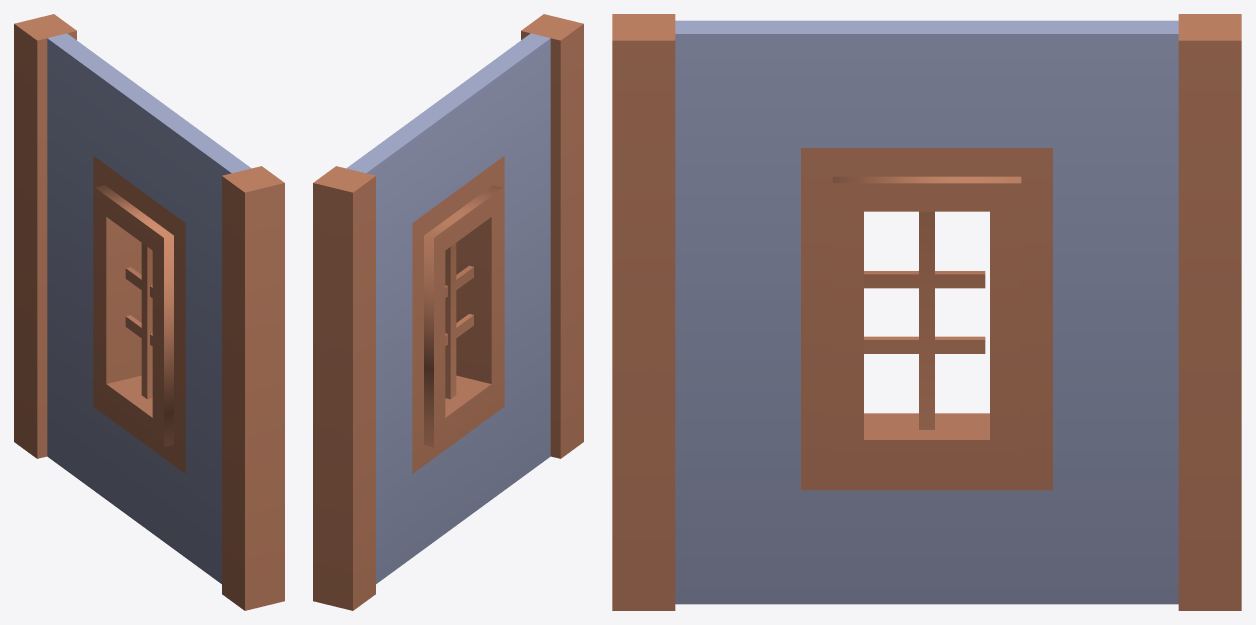
The model's file is wall-window-glass.glb.
3 renders of one model, left to right at view 1: azimuth 30°, elevation 25°; view 2: azimuth 150°, elevation 25°; view 3: azimuth 270°, elevation 25°, orthographic. The views are drawn at different scales.
Visible parts, largest first — view 1: wall-window-glass; view 2: wall-window-glass; view 3: wall-window-glass.
Part boxes in pixels (box(x1,y1,x2,y2)): wall-window-glass: box(14, 14, 284, 610); wall-window-glass: box(313, 14, 583, 610); wall-window-glass: box(612, 14, 1241, 610).
Size of the model in its own units: 0.1 by 1 by 1.
1 material, 1 textured.
